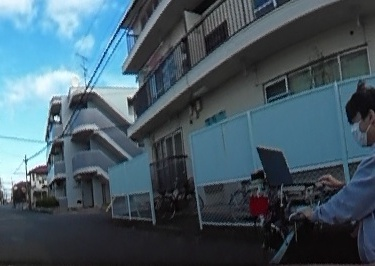person: (300, 86, 375, 266)
